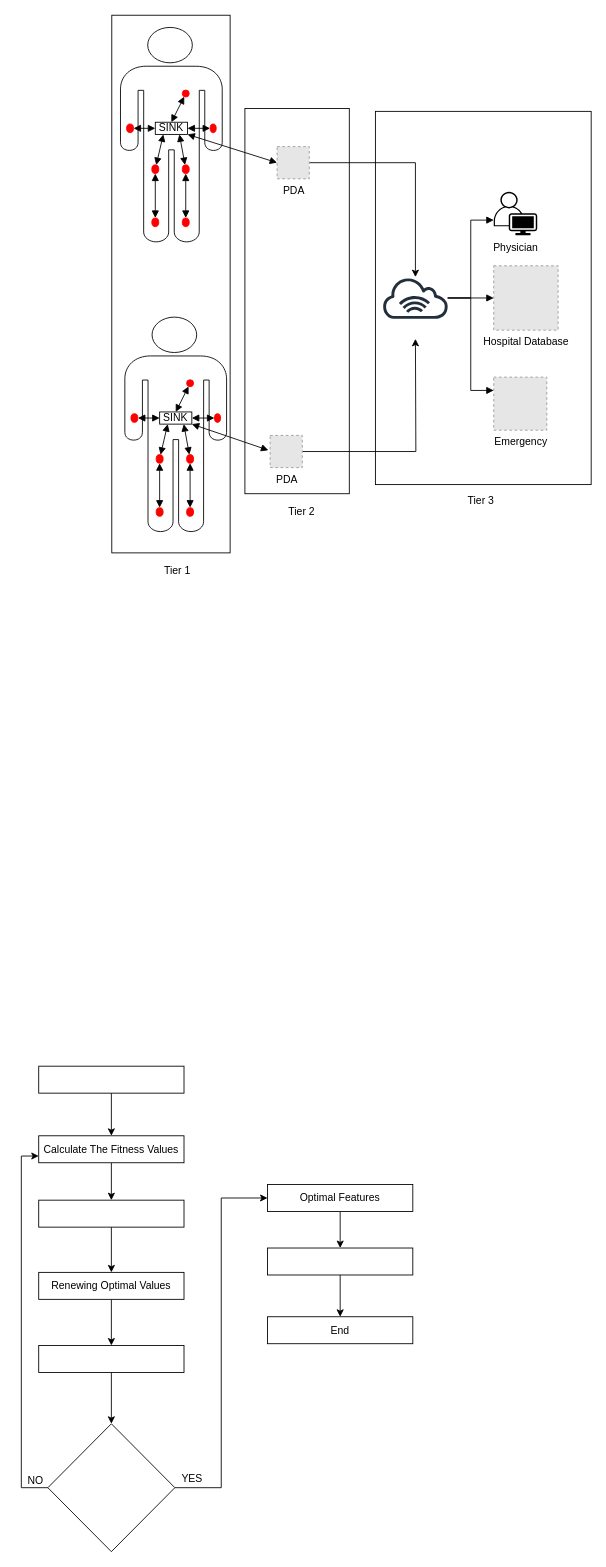
Some shapes in this 606 by 1567 pixel diagram are drawn without their labels. Grey dashed boxes stand in for pictures. The shapes that lost their labels are listed below. From the top down, each one's centre as x and y in pixels, then its label:
At (x=415, y=297): "Internet".
At (x=111, y=1079): "Initialise Parameters".
At (x=111, y=1213): "Calculate Optimal Values".
At (x=340, y=1261): "Measure The Effectiveness Of The Features".
At (x=111, y=1358): "Update The Position Of Nodes".
At (x=111, y=1487): "Termination Criteria?".
